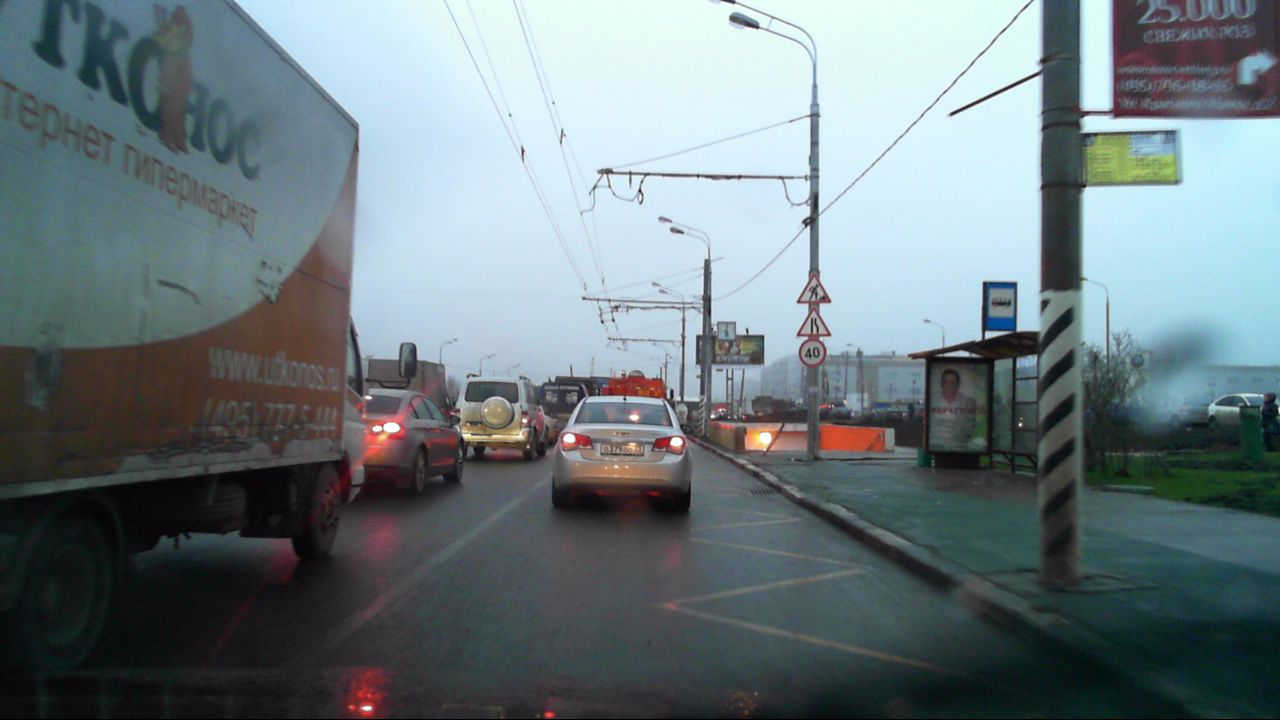speed_warning_40: (799, 337, 826, 367)
